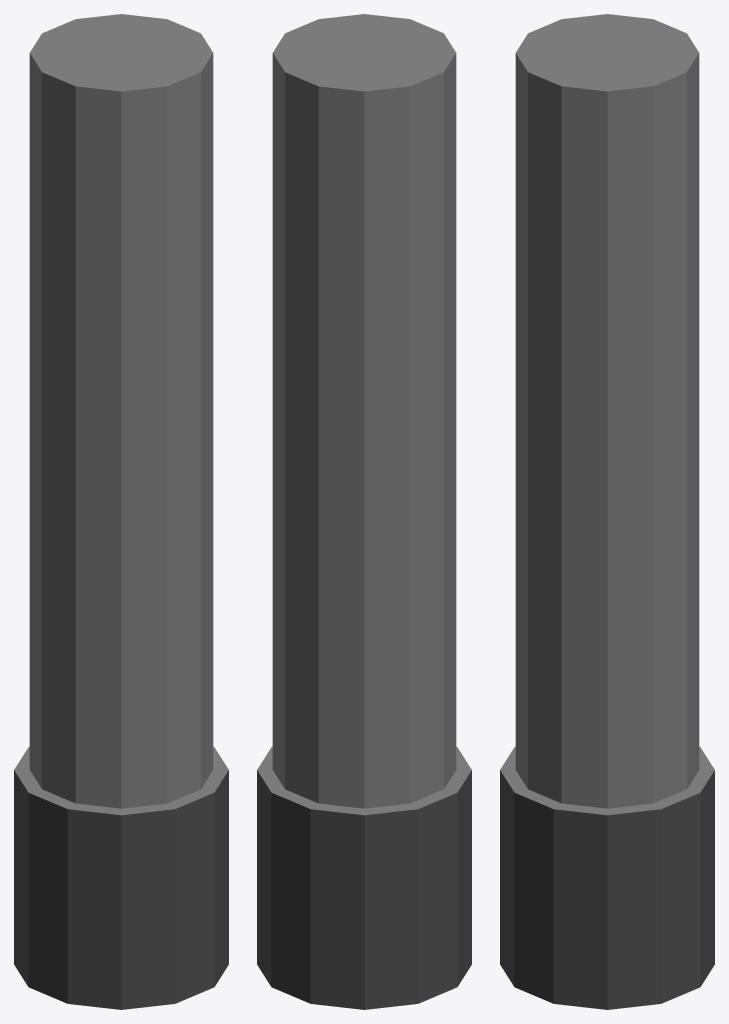
The model's file is Oven_smoke_stack.fbx.
The picture shows the model from 3 angles, left to right: view 1: azimuth 30°, elevation 25°; view 2: azimuth 150°, elevation 25°; view 3: azimuth 270°, elevation 25°; orthographic projection.
Parts seen in each view (by area): view 1: pCylinder1; view 2: pCylinder1; view 3: pCylinder1.
Part boxes in pixels (<box>): pCylinder1: <box>14,14,228,1009</box>; pCylinder1: <box>257,14,471,1009</box>; pCylinder1: <box>500,14,714,1009</box>.
Bounding box in the file's own units: 11.46 × 53.68 × 11.46.
